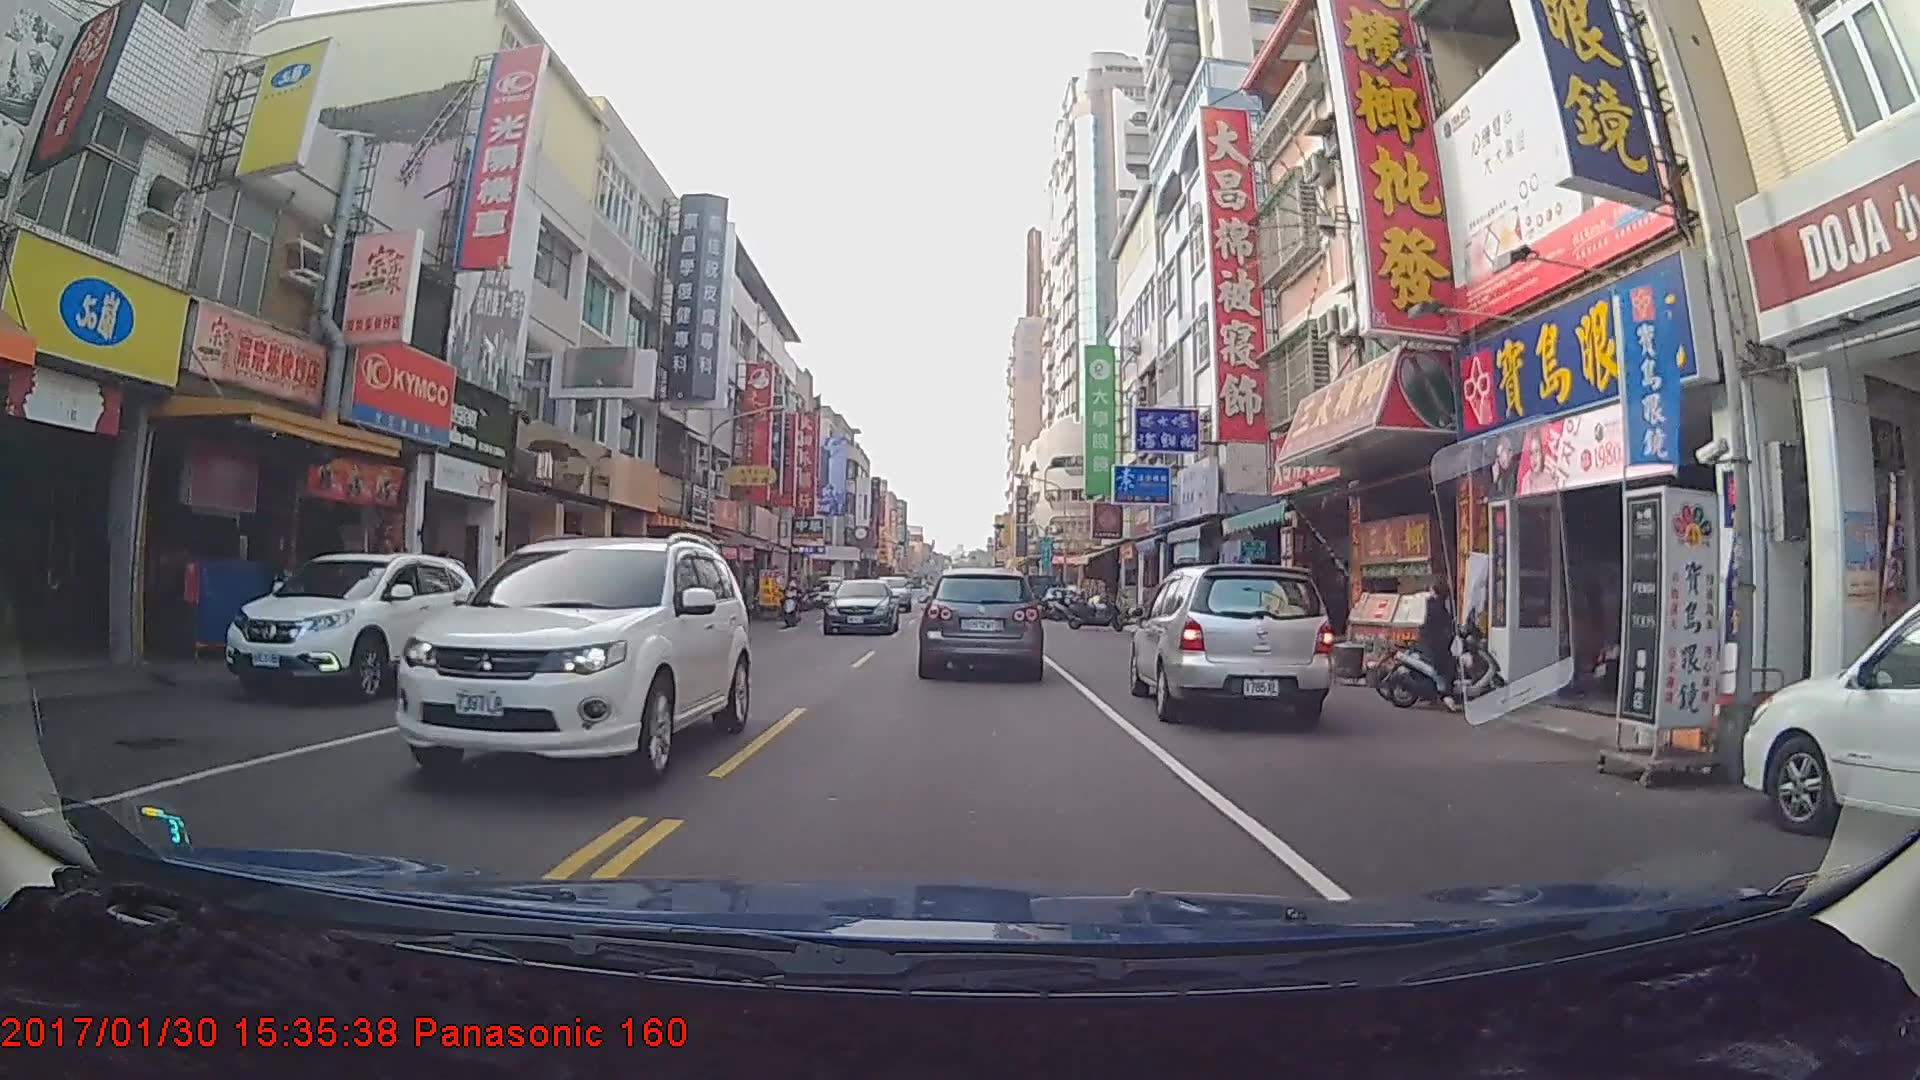rider: (1384, 574, 1522, 723), (774, 572, 806, 625)
vehicle: (392, 532, 750, 788), (1741, 571, 1920, 886), (222, 550, 469, 702), (1127, 562, 1332, 730), (918, 567, 1043, 678), (820, 576, 899, 635), (868, 573, 910, 611)
